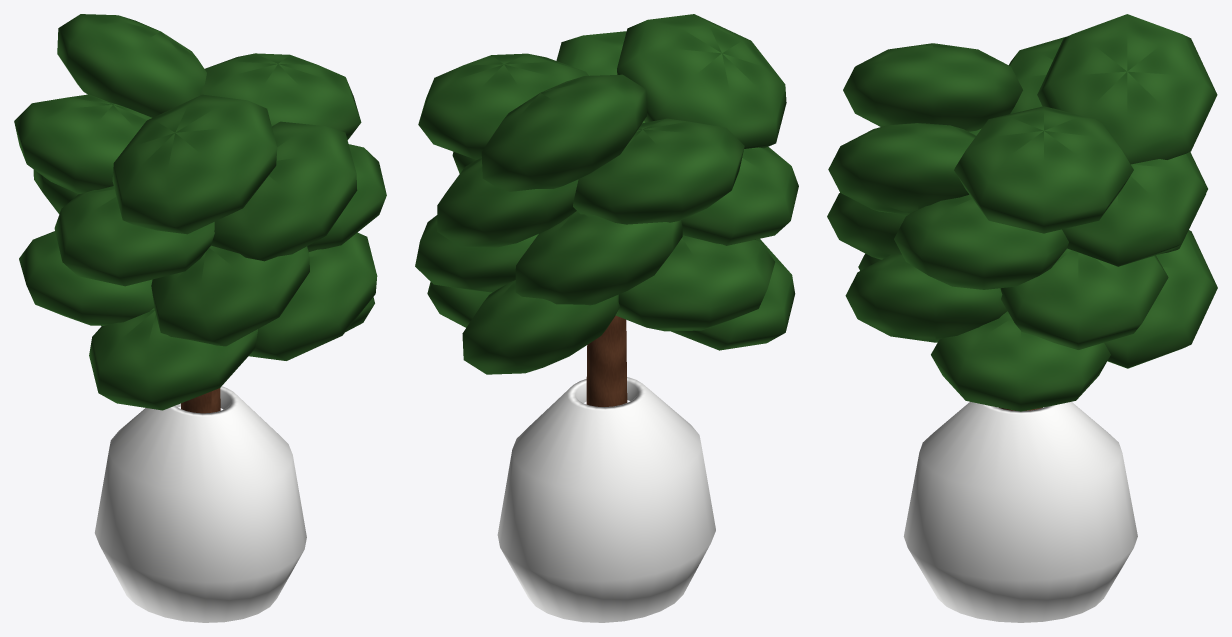
The model's file is ceramic_planter_leaf.glb.
3 views of the same model, side by side, from view 1: azimuth 30°, elevation 25°; view 2: azimuth 150°, elevation 25°; view 3: azimuth 270°, elevation 25° (orthographic). The views are drawn at different scales.
Visible parts, largest first — view 1: ceramic_planter_leaf_foliageDark, ceramic_planter_leaf_ceramicWhite, ceramic_planter_leaf_woodWalnut; view 2: ceramic_planter_leaf_foliageDark, ceramic_planter_leaf_ceramicWhite, ceramic_planter_leaf_woodWalnut; view 3: ceramic_planter_leaf_foliageDark, ceramic_planter_leaf_ceramicWhite.
Part boxes in pixels (x1,y1,x2,y2): ceramic_planter_leaf_foliageDark: (14,14,386,410); ceramic_planter_leaf_ceramicWhite: (94,386,306,622); ceramic_planter_leaf_woodWalnut: (181,388,220,413); ceramic_planter_leaf_foliageDark: (415,14,798,374); ceramic_planter_leaf_ceramicWhite: (497,377,715,622); ceramic_planter_leaf_woodWalnut: (586,315,627,406); ceramic_planter_leaf_foliageDark: (827,14,1217,411); ceramic_planter_leaf_ceramicWhite: (903,402,1137,622).
Size of what is drawn, in the model's own units: 0.55 by 0.85 by 0.55.
Materials: 3 (2 with a texture image).
